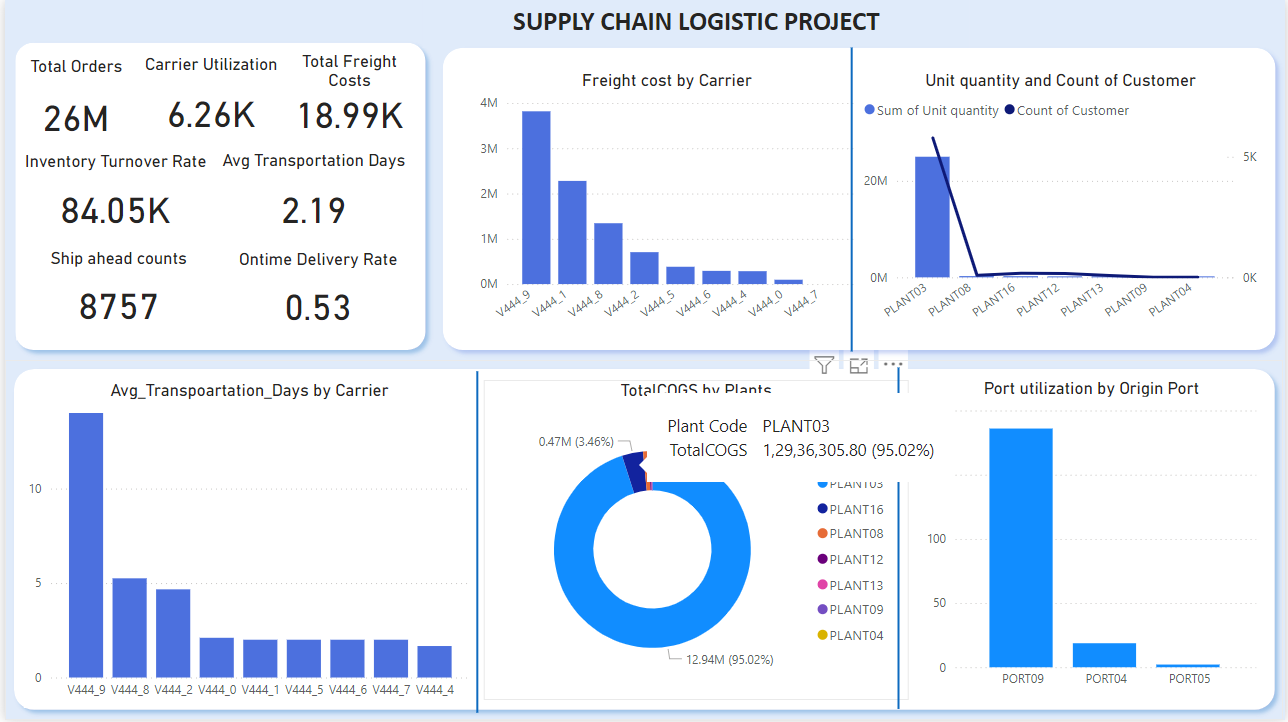

Layout of this report page (visuals, bound fields, positions):
{"tool":"powerbi","page":{"name":"Page 1","canvas":[1280,720],"ordinal":0},"visuals":[{"type":"shape","box":[1.2,34.1,428.1,325.2],"z":0,"group":"g3"},{"type":"shape","box":[429,39.1,850.7,320.3],"z":0,"group":"g1"},{"type":"group","id":"g1","title":"Group 4","box":[429,39.1,850.7,320.3],"z":250,"group":"g5"},{"type":"group","id":"g2","title":"Group 2","box":[0,359.8,1278.5,359.4],"z":500,"group":"g4"},{"type":"shape","box":[0,359.8,1278.7,358.8],"z":500,"group":"g2"},{"type":"shape","box":[838.5,47.5,15.9,304.3],"z":750,"group":"g5"},{"type":"shape","box":[883.5,367.9,19.5,341.5],"z":750,"group":"g4"},{"type":"shape","box":[464.6,370.8,14.6,341.5],"z":875,"group":"g4"},{"type":"lineStackedColumnComboChart","title":"Freight cost by Carrier","fields":{"Category":["FreightRates.Carrier"],"Y":["Sum(FreightRates.Freight cost)"]},"box":[470.7,70.1,383.9,270.3],"z":1000,"group":"g1"},{"type":"lineStackedColumnComboChart","title":"Unit quantity and Count of Customer","fields":{"Category":["WhCapacities.Plant Code"],"Y":["Sum(OrderList.Unit quantity)"],"Y2":["CountNonNull(OrderList.Customer)"]},"box":[853.4,70.1,403.4,270.3],"z":2000,"group":"g1"},{"type":"card","title":"Ontime Delivery Rate","fields":{"Values":["New Measure.OnTimeDeliveryRate"]},"box":[213.2,248.6,198.8,92.7],"z":2000,"group":"g3"},{"type":"group","id":"g3","title":"Group 1","box":[1.2,34.1,428,325.6],"z":3000},{"type":"card","title":"Avg Transportation Days","fields":{"Values":["New Measure.avg_transpoartation_days"]},"box":[205.2,150.3,207.3,95.1],"z":3000,"group":"g3"},{"type":"textbox","box":[540.7,0,330.7,42.5],"z":4000},{"type":"donutChart","title":"TotalCOGS by Plants","fields":{"Category":["PlantPorts.Plant Code"],"Y":["New Measure.TotalCOGS"]},"box":[479.3,379.4,424.7,319.9],"z":4000,"group":"g2"},{"type":"group","id":"g4","title":"Group 3","box":[0,359.8,1278,359.8],"z":5000},{"type":"lineStackedColumnComboChart","title":"Avg_Transpoartation_Days by Carrier","fields":{"Category":["FreightRates.Carrier"],"Y":["New Measure.avg_transpoartation_days"]},"box":[18.7,379.4,451.2,327.7],"z":5000,"group":"g2"},{"type":"group","id":"g5","title":"Group 5","box":[429,39.1,850.7,320.3],"z":5001},{"type":"card","title":"Total Orders","fields":{"Values":["New Measure.TotalOrders"]},"box":[16,56.1,109.8,98.8],"z":7000,"group":"g3"},{"type":"card","title":"Inventory Turnover Rate","fields":{"Values":["New Measure.InventoryTurnoverRate"]},"box":[10.7,152.2,198.8,92.7],"z":8000,"group":"g3"},{"type":"card","title":"Carrier Utilization","fields":{"Values":["New Measure.CarrierUtilization"]},"box":[130.8,53.9,150,96.3],"z":9000,"group":"g3"},{"type":"columnChart","title":"Port utilization by Origin Port","fields":{"Category":["OrderList.Origin Port"],"Series":["OrderList.Destination Port"],"Y":["New Measure.portutilization"]},"box":[916.5,377.9,340.4,319.9],"z":10000,"group":"g2"},{"type":"card","title":"Total Freight Costs","fields":{"Values":["New Measure.TotalFreightCost"]},"box":[275.9,51.5,136.6,82.9],"z":11000,"group":"g3"},{"type":"card","title":"Ship ahead counts","fields":{"Values":["Sum(OrderList.Ship ahead day count)"]},"box":[10.7,247.3,204.9,92.7],"z":12000,"group":"g3"}]}

Visuals, with their boxes in screenshot pixels (x1, y1, x2, y2), scaled from the page's 1280x720 canvas onto the 1288x722 screenshot:
shape: 1, 34, 432, 360
shape: 432, 39, 1287, 360
"Group 4" group: 432, 39, 1287, 360
"Group 2" group: 0, 361, 1286, 721
shape: 0, 361, 1287, 721
shape: 844, 48, 860, 353
shape: 889, 369, 909, 711
shape: 468, 372, 482, 714
"Freight cost by Carrier" lineStackedColumnComboChart: 474, 70, 860, 341
"Unit quantity and Count of Customer" lineStackedColumnComboChart: 859, 70, 1265, 341
"Ontime Delivery Rate" card: 215, 249, 415, 342
"Group 1" group: 1, 34, 432, 361
"Avg Transportation Days" card: 206, 151, 415, 246
textbox: 544, 0, 877, 43
"TotalCOGS by Plants" donutChart: 482, 380, 910, 701
"Group 3" group: 0, 361, 1286, 721
"Avg_Transpoartation_Days by Carrier" lineStackedColumnComboChart: 19, 380, 473, 709
"Group 5" group: 432, 39, 1287, 360
"Total Orders" card: 16, 56, 127, 155
"Inventory Turnover Rate" card: 11, 153, 211, 246
"Carrier Utilization" card: 132, 54, 283, 151
"Port utilization by Origin Port" columnChart: 922, 379, 1265, 700
"Total Freight Costs" card: 278, 52, 415, 135
"Ship ahead counts" card: 11, 248, 217, 341
